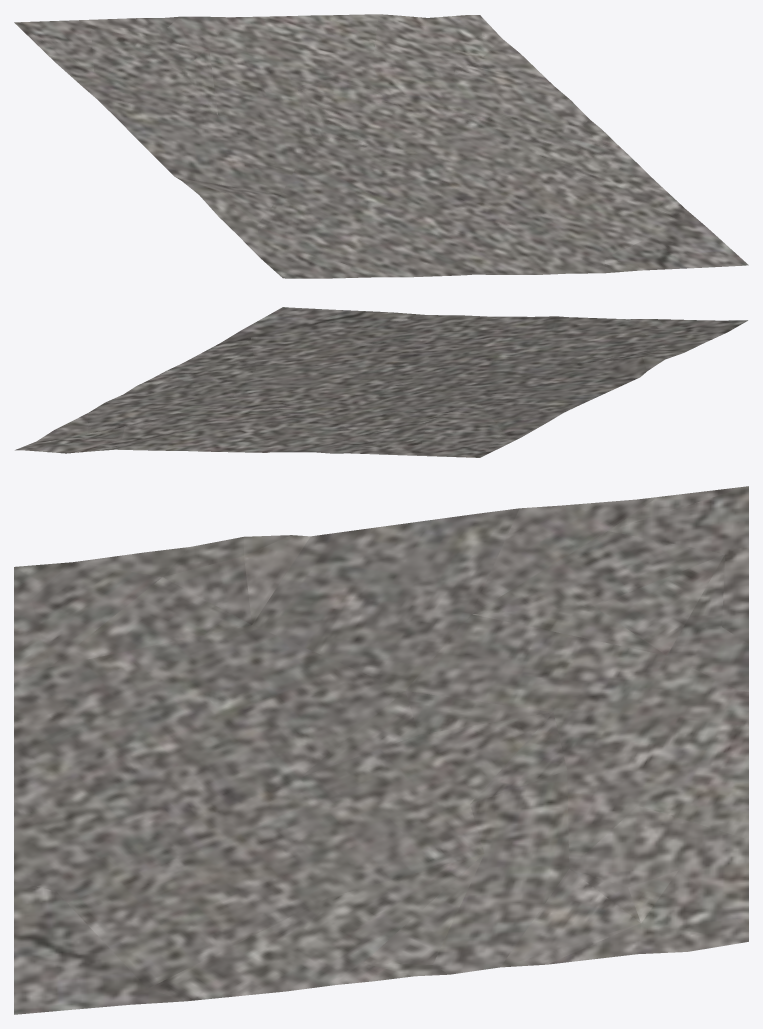
The picture shows the model from 3 angles, top to bottom: view 1: azimuth 30°, elevation 25°; view 2: azimuth 150°, elevation 25°; view 3: azimuth 270°, elevation 25°; orthographic projection. The views are drawn at different scales.
Size of the model in its own units: 0.8374 by 0.2741 by 0.8374.
2 materials, 2 textured.
